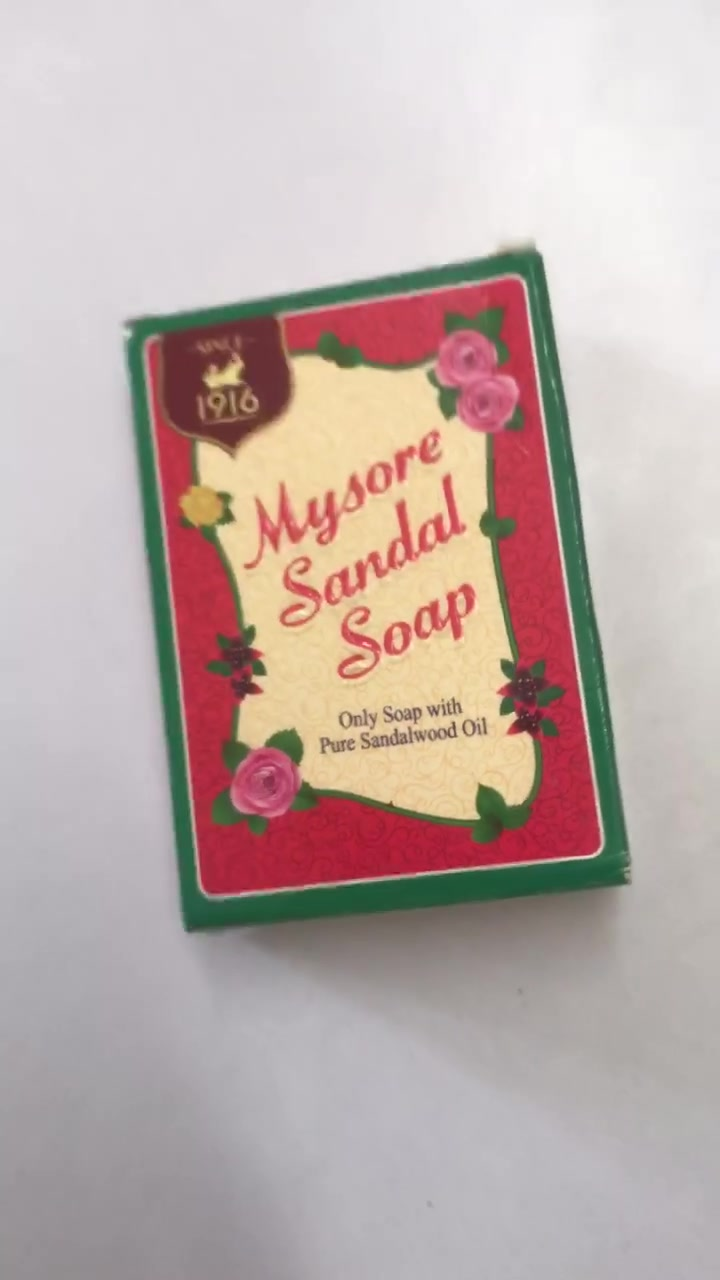mysore sandal soap: (117, 249, 634, 927)
